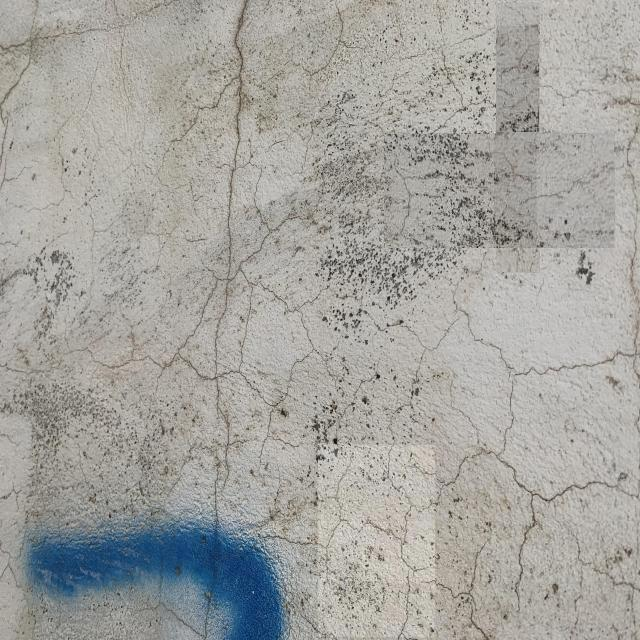multi-branched crack: (0, 3, 637, 640)
vertical crack: (177, 0, 266, 640)
